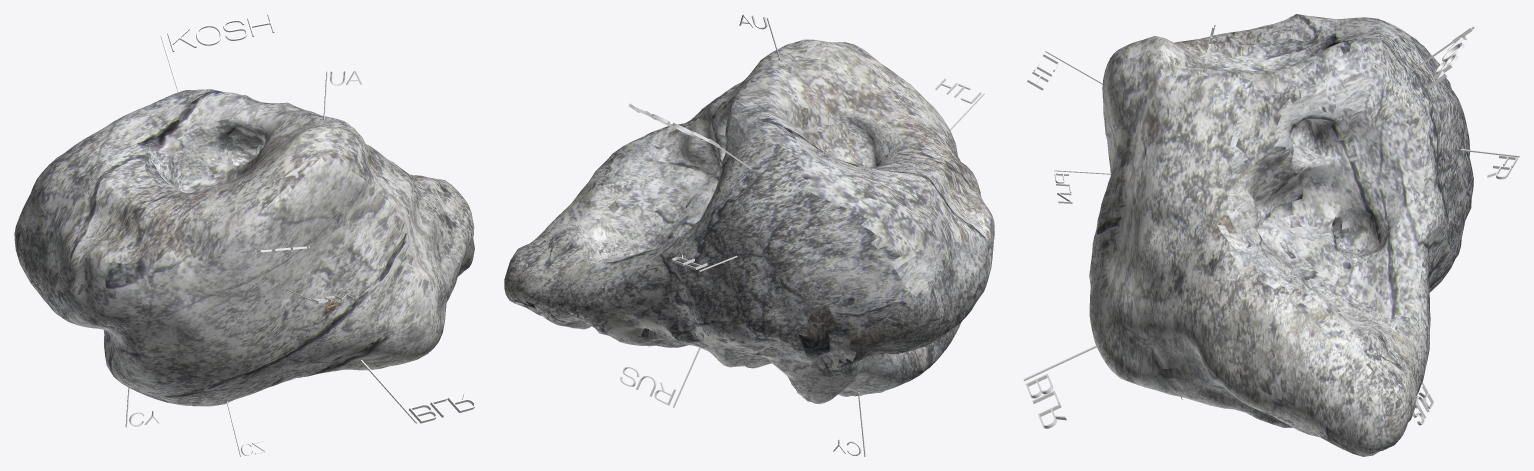
Rendered from asset.glb.
The picture shows the model from 3 angles, left to right: view 1: azimuth 30°, elevation 25°; view 2: azimuth 150°, elevation 25°; view 3: azimuth 270°, elevation 25°; orthographic projection. The views are drawn at different scales.
Parts seen in each view (by area): view 1: Cube.001; view 2: Cube.001; view 3: Cube.001.
Part boxes in pixels (x1,y1,x2,y2): Cube.001: (14, 14, 475, 456); Cube.001: (504, 14, 994, 456); Cube.001: (1023, 14, 1519, 456).
Bounding box in the file's own units: 151 × 121 × 127.
2 materials, 1 textured.
